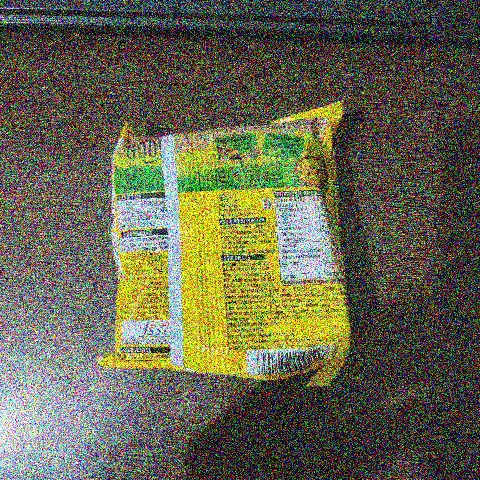maggi: (92, 81, 367, 377)
